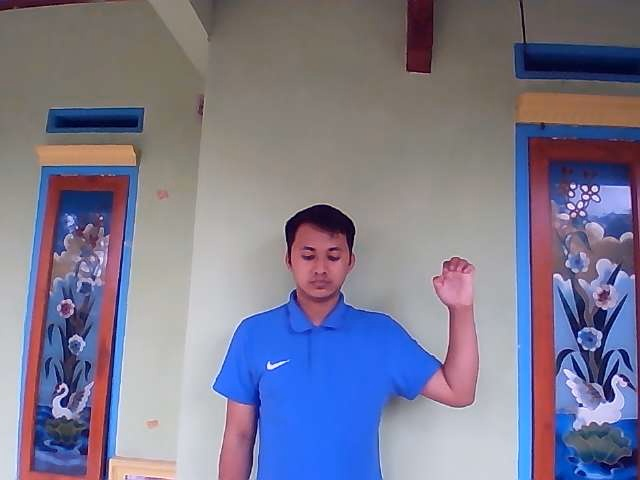E: (431, 255, 477, 305)
